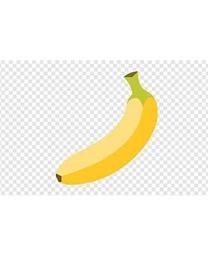banana: (55, 71, 161, 187)
